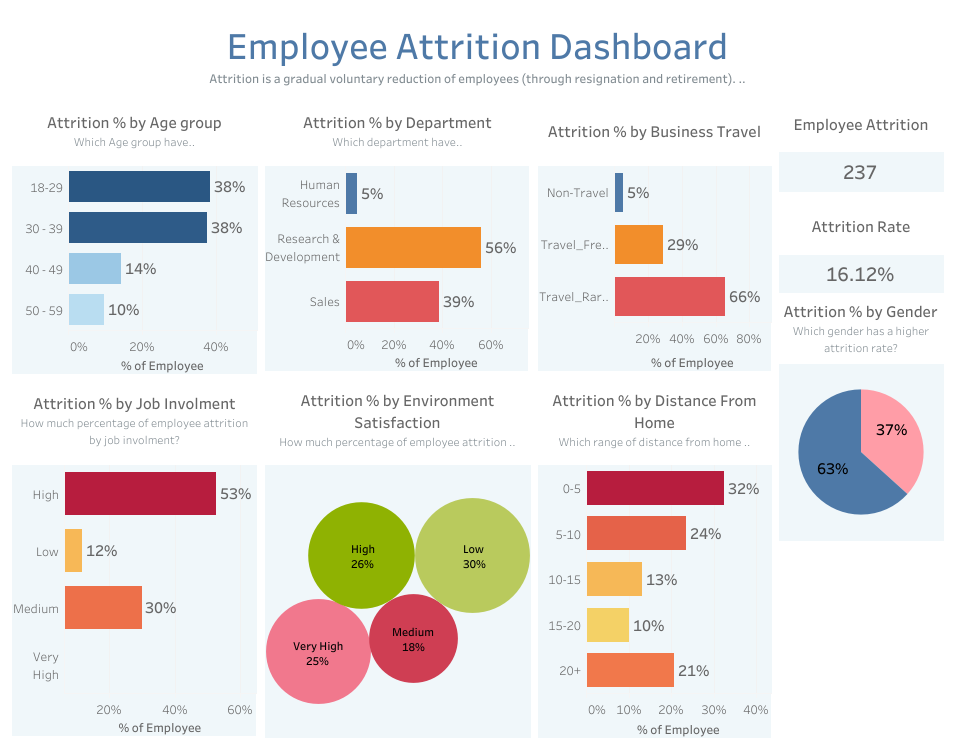

This screenshot's page, from the dashboard's own definition file:
{"tool":"tableau","page":{"name":"Employee Attrition Dashboard","canvas":[1000,1000],"units":"permille","ordinal":0},"visuals":[{"type":"text","box":[8.4,10.7,983.2,120]},{"type":"text","box":[8.4,132,264.9,84.1]},{"type":"text","box":[273.3,132,285.9,84.1]},{"type":"text","box":[559.2,132,252.4,84.1]},{"type":"text","box":[811.5,132,180.1,65.3]},{"type":"worksheet","title":"Employee Attrition","mark":"Automatic","box":[811.5,197.3,180.1,62.7]},{"type":"worksheet","title":"Age Distribution","mark":"Automatic","rows":["Calculation_390124355756417038"],"cols":["Calculation_390124355722088460"],"box":[8.4,216.1,264.9,288.4]},{"type":"worksheet","title":"Department","mark":"Automatic","rows":["Department"],"box":[273.3,216.1,285.9,288.4]},{"type":"worksheet","title":"Business Travel","mark":"Automatic","rows":["BusinessTravel"],"box":[559.2,216.1,252.4,288.4]},{"type":"text","box":[811.5,268,180.1,66.7]},{"type":"worksheet","title":"Attrition Rate","mark":"Automatic","box":[811.5,334.7,180.1,60]},{"type":"text","box":[811.5,394.7,180.1,81.3]},{"type":"worksheet","title":"Gender","mark":"Pie","box":[811.5,476,180.1,245.3]},{"type":"text","box":[8.4,504.6,264.9,110.1]},{"type":"text","box":[273.3,504.6,285.9,110.1]},{"type":"text","box":[559.2,504.6,252.4,110.1]},{"type":"worksheet","title":"Job Involment","mark":"Automatic","box":[8.4,614.7,264.9,374.7]},{"type":"worksheet","title":"Environment Satisfaction","mark":"Circle","box":[273.3,614.7,285.9,374.7]},{"type":"worksheet","title":"Distance From Home","mark":"Automatic","rows":["Calculation_390124355758387215"],"box":[559.2,614.7,252.4,374.7]}]}

Visuals, with their boxes on the dashboard's canvas, which has no fixed pixel size, in thousandths of its width and height (x1, y1, x2, y2). These are canvas units, not pixel positions in the 954x749 screenshot, which may show the page scaled, cropped or inside an application window:
text: 8, 11, 992, 131
text: 8, 132, 273, 216
text: 273, 132, 559, 216
text: 559, 132, 812, 216
text: 812, 132, 992, 197
"Employee Attrition" worksheet: 812, 197, 992, 260
"Age Distribution" worksheet: 8, 216, 273, 504
"Department" worksheet: 273, 216, 559, 504
"Business Travel" worksheet: 559, 216, 812, 504
text: 812, 268, 992, 335
"Attrition Rate" worksheet: 812, 335, 992, 395
text: 812, 395, 992, 476
"Gender" worksheet (Pie marks): 812, 476, 992, 721
text: 8, 505, 273, 615
text: 273, 505, 559, 615
text: 559, 505, 812, 615
"Job Involment" worksheet: 8, 615, 273, 989
"Environment Satisfaction" worksheet (Circle marks): 273, 615, 559, 989
"Distance From Home" worksheet: 559, 615, 812, 989
